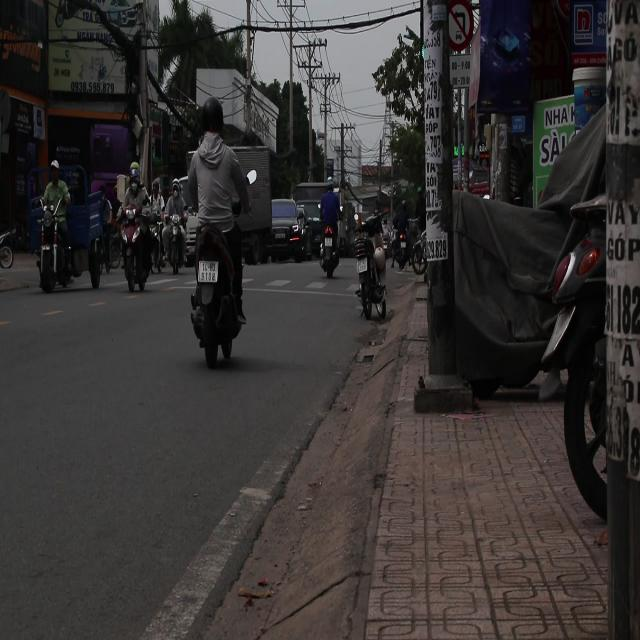car: (268, 200, 304, 262)
motorbike: (190, 212, 254, 384), (351, 202, 390, 328), (34, 166, 72, 293), (158, 198, 194, 304), (318, 190, 351, 293), (118, 211, 159, 293)
